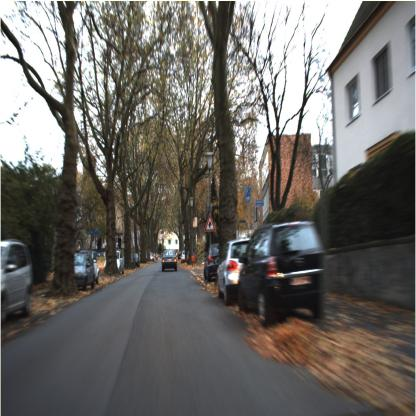priority at next intersection: (204, 214, 216, 232)
